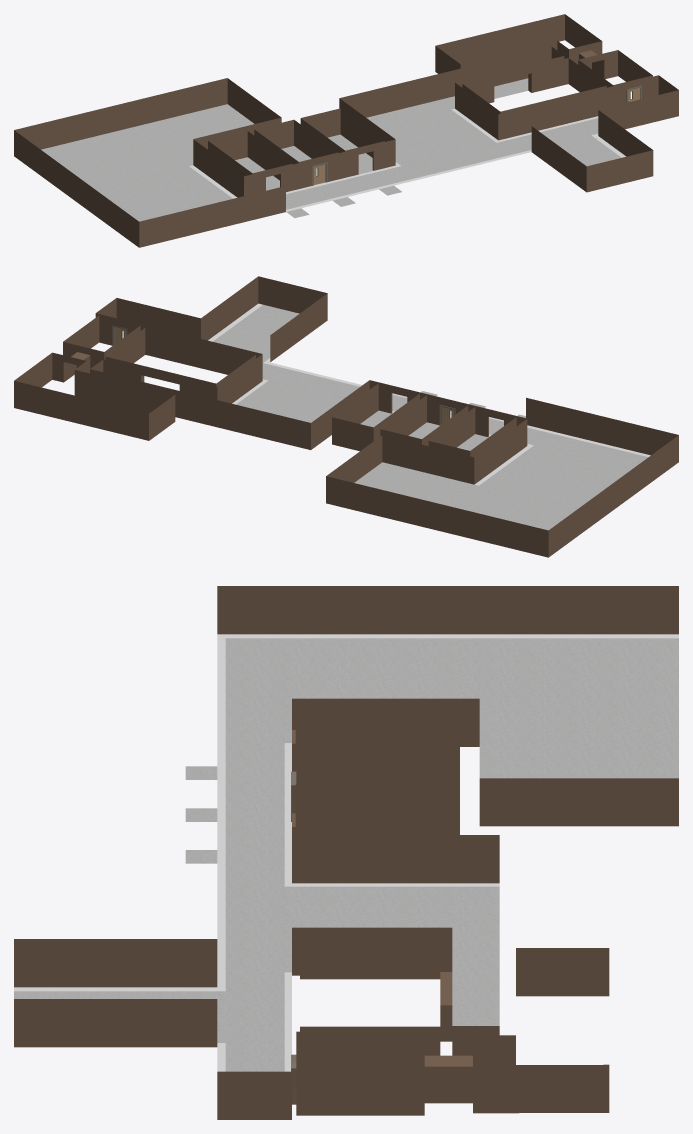
File: Clinic.fbx
3 renders of one model, top to bottom at view 1: azimuth 30°, elevation 25°; view 2: azimuth 150°, elevation 25°; view 3: azimuth 270°, elevation 25°, orthographic. The views are drawn at different scales.
Visible parts, largest first — view 1: rect5676.009, rect5676.008, rect5676.010, rect5676.014, rect5676.013; view 2: rect5676.009, rect5676.008, rect5676.010, rect5676.014, rect5676.013; view 3: rect5676.009, rect5676.008, rect5676.013, rect5676.010, rect5676.014.
Boxes of the visible parts, <box> form: rect5676.009: <box>14,46,678,247</box>; rect5676.008: <box>41,78,625,221</box>; rect5676.010: <box>435,14,602,73</box>; rect5676.014: <box>462,58,606,114</box>; rect5676.013: <box>578,50,652,87</box>; rect5676.009: <box>90,276,678,557</box>; rect5676.008: <box>122,303,650,530</box>; rect5676.010: <box>14,352,175,440</box>; rect5676.014: <box>105,327,255,386</box>; rect5676.013: <box>63,315,140,382</box>; rect5676.009: <box>14,586,678,1119</box>; rect5676.008: <box>14,634,678,1071</box>; rect5676.013: <box>292,1031,472,1115</box>; rect5676.010: <box>473,948,609,1113</box>; rect5676.014: <box>300,931,452,1055</box>.
Bounding box in the file's own units: 6584 × 305 × 3810.
